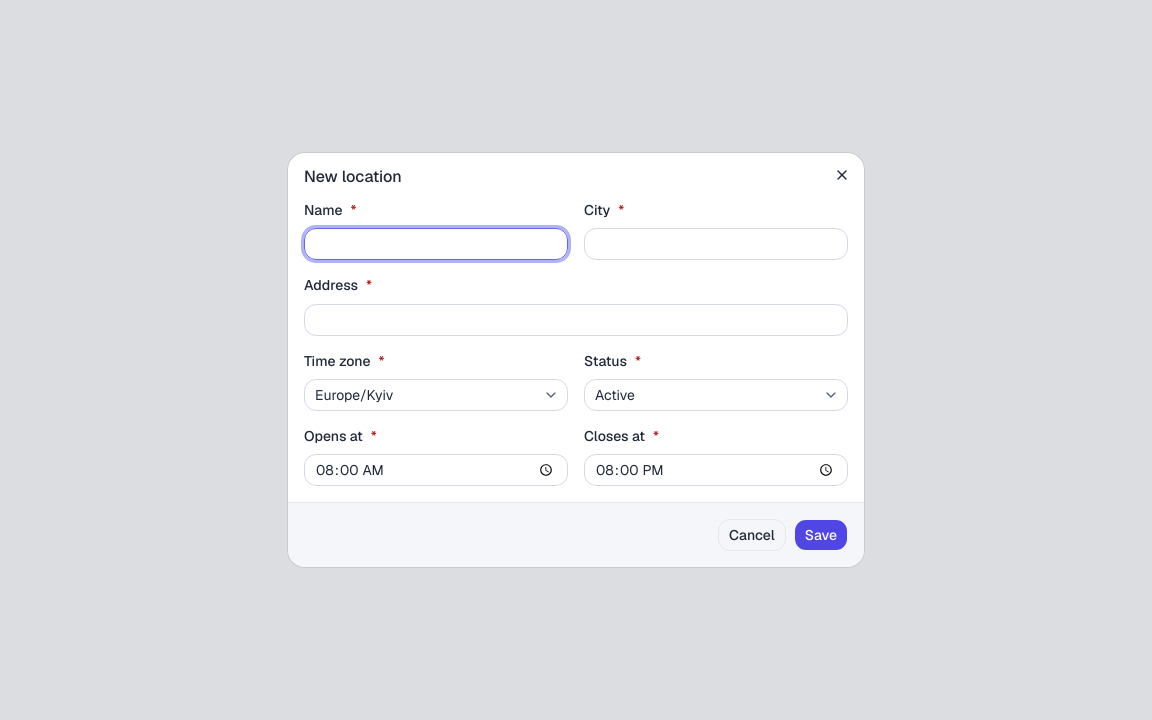
it: LocationFormDialog: creating › shows the validation messages under the fields and sends nothing
Click the button "Save" at point(821, 535), box [794,519,848,551]
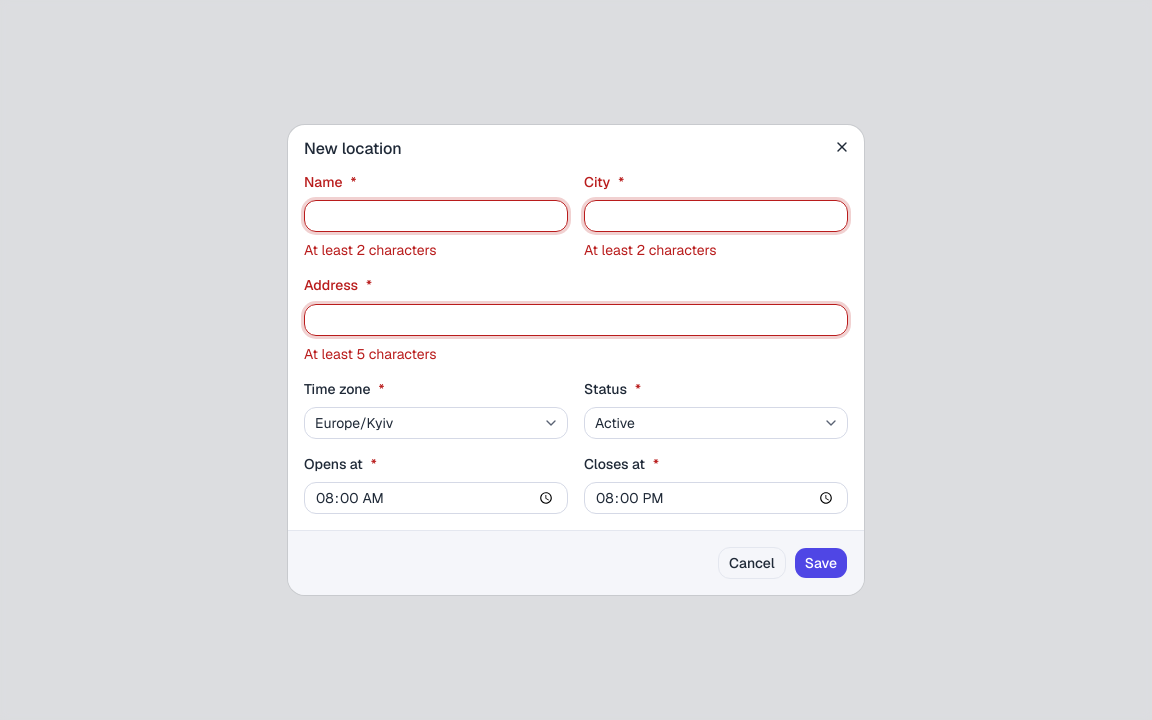
Result: the text "At least 2 characters" is shown 2 times at [304,241,436,259]; [584,241,716,259]
Result: the text "At least 5 characters" is shown at [304,344,437,362]
